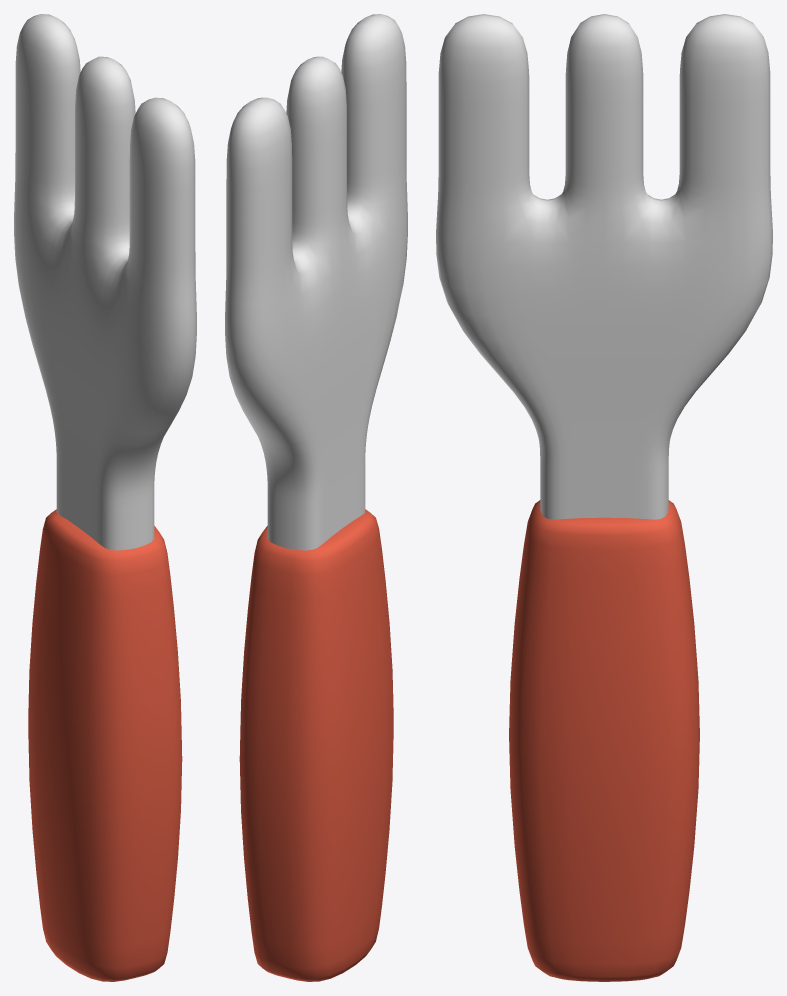
The model's file is fork-obstacle.fbx.
3 renders of one model, left to right at view 1: azimuth 30°, elevation 25°; view 2: azimuth 150°, elevation 25°; view 3: azimuth 270°, elevation 25°, orthographic. The views are drawn at different scales.
Visible parts, largest first — view 1: fork.001, fork-acs.001; view 2: fork.001, fork-acs.001; view 3: fork.001, fork-acs.001.
Part boxes in pixels (x1,y1,x2,y2): fork.001: (14,14,196,550); fork-acs.001: (28,509,182,981); fork.001: (225,14,407,550); fork-acs.001: (239,509,393,981); fork.001: (436,14,772,519); fork-acs.001: (509,500,699,981).
Size of the model in its own units: 54.54 by 437 by 140.
